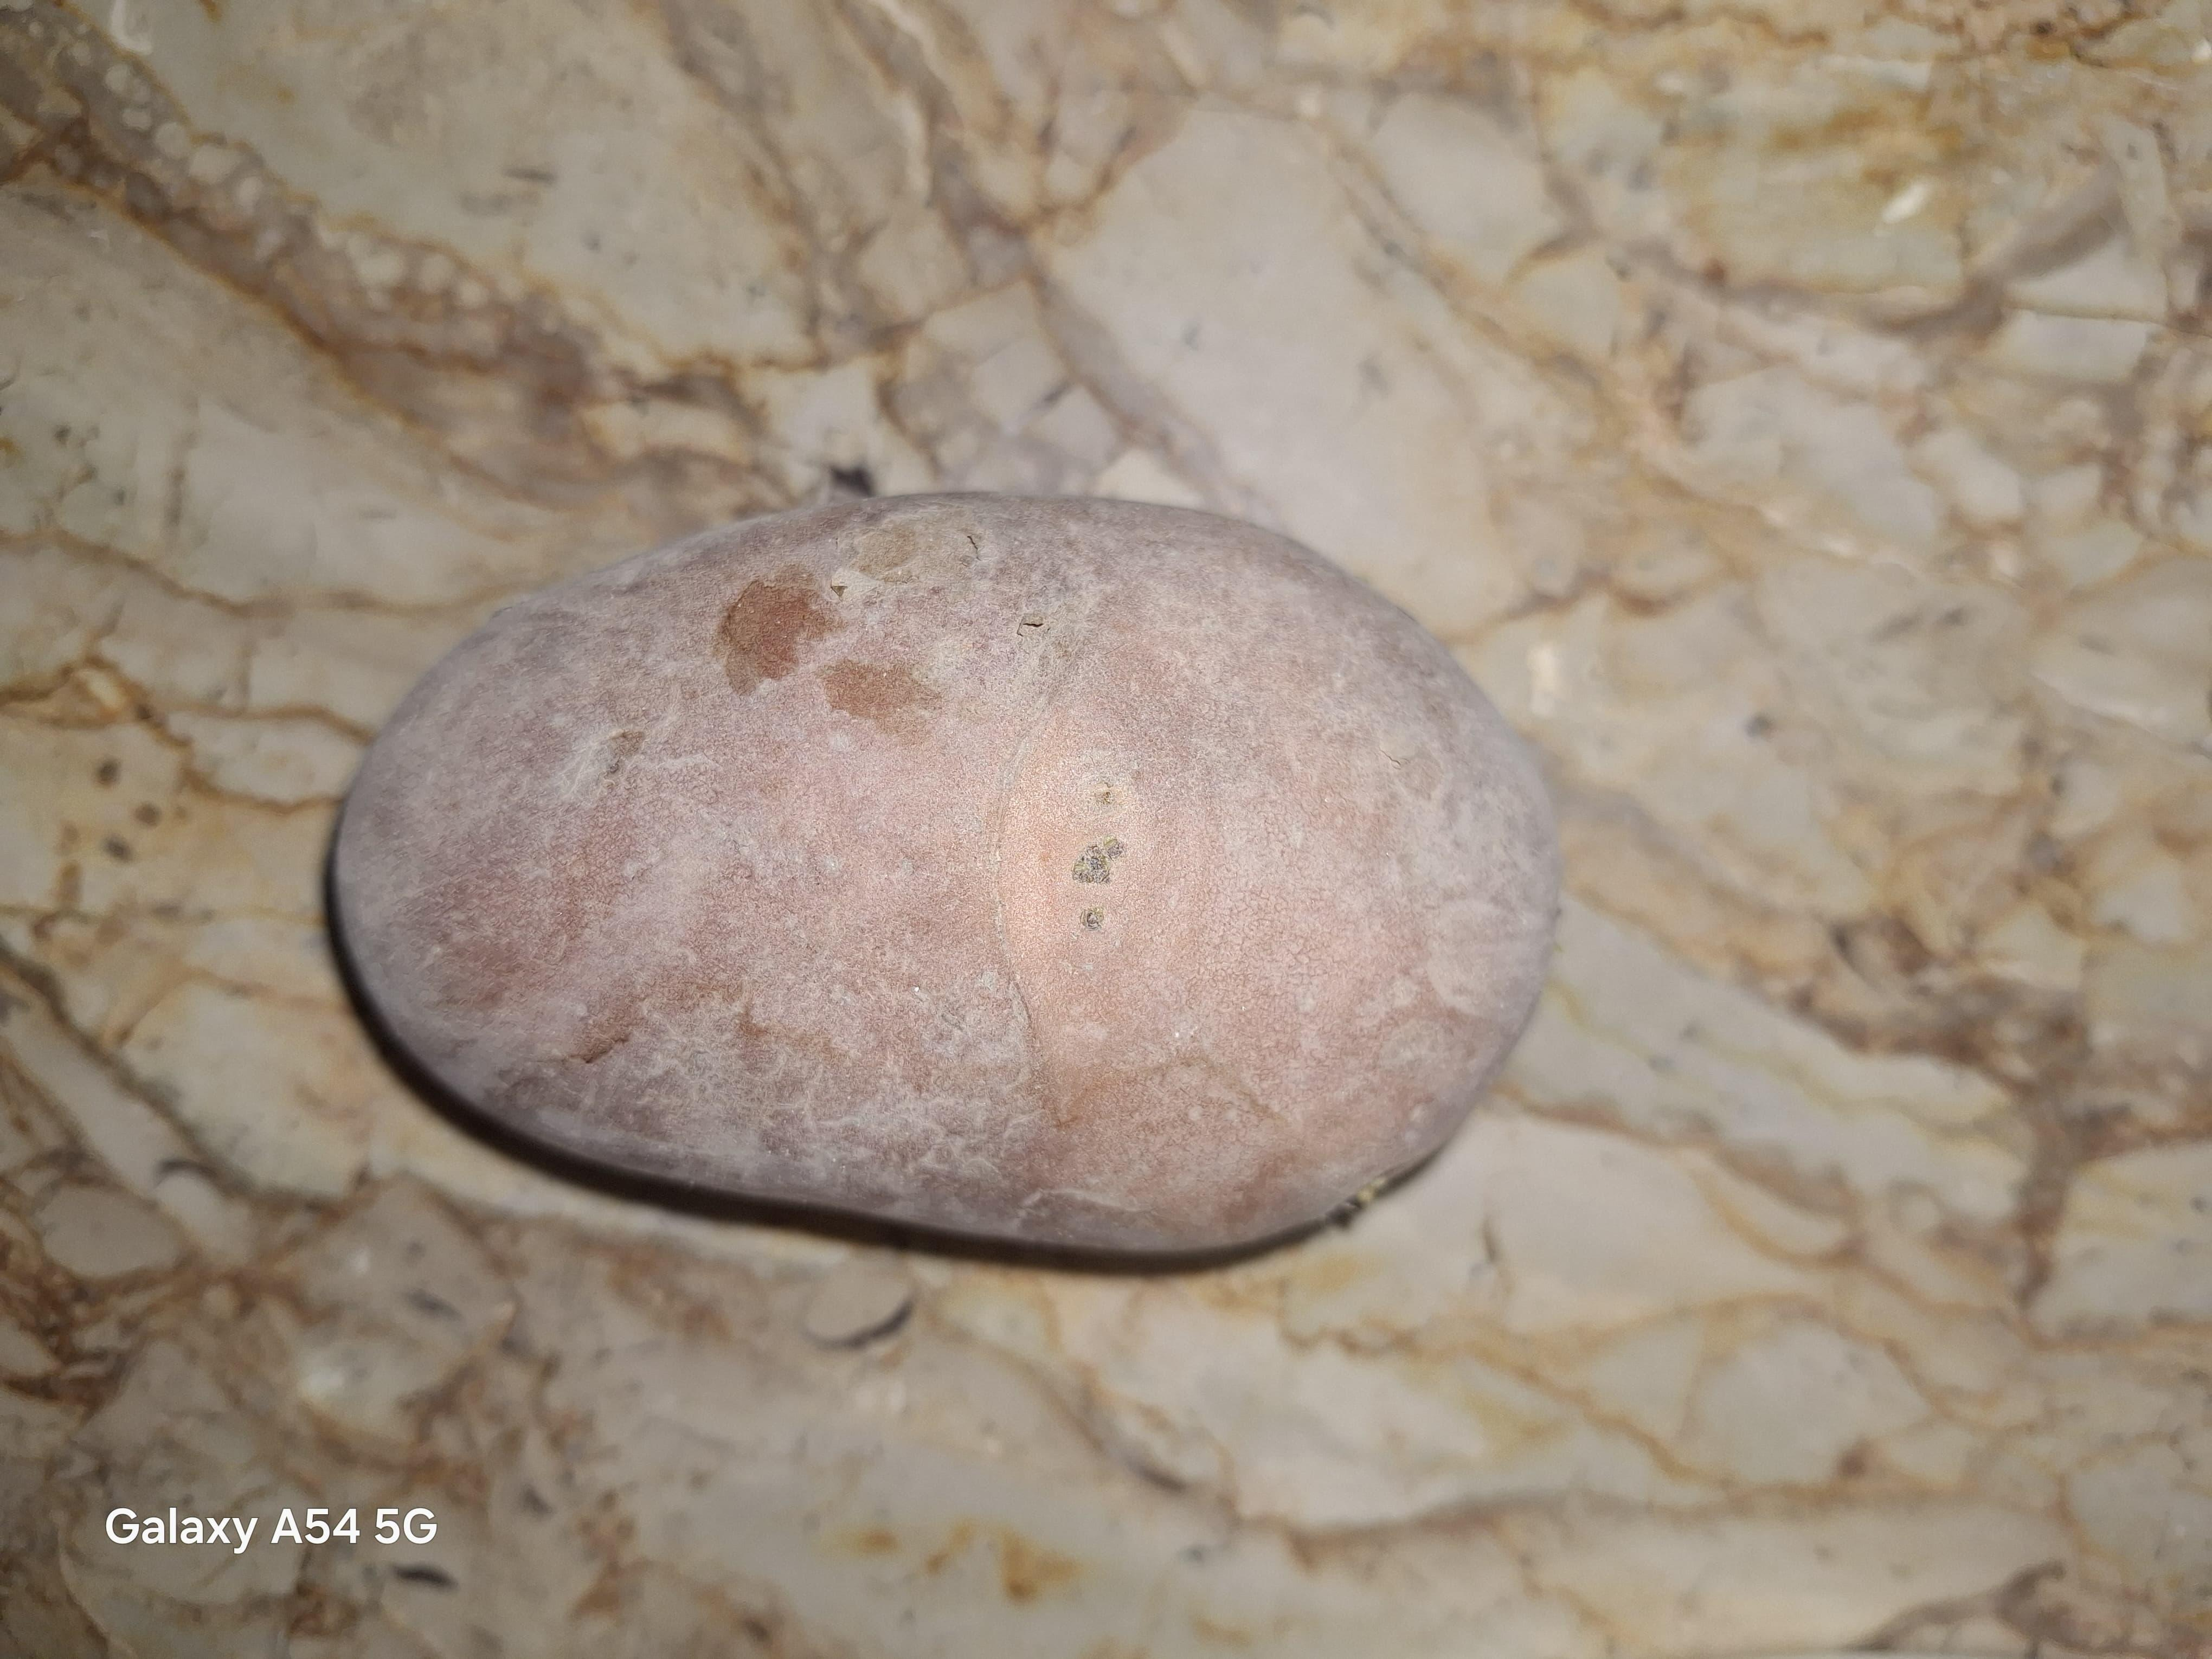non-mango: (324, 484, 1564, 1265)
